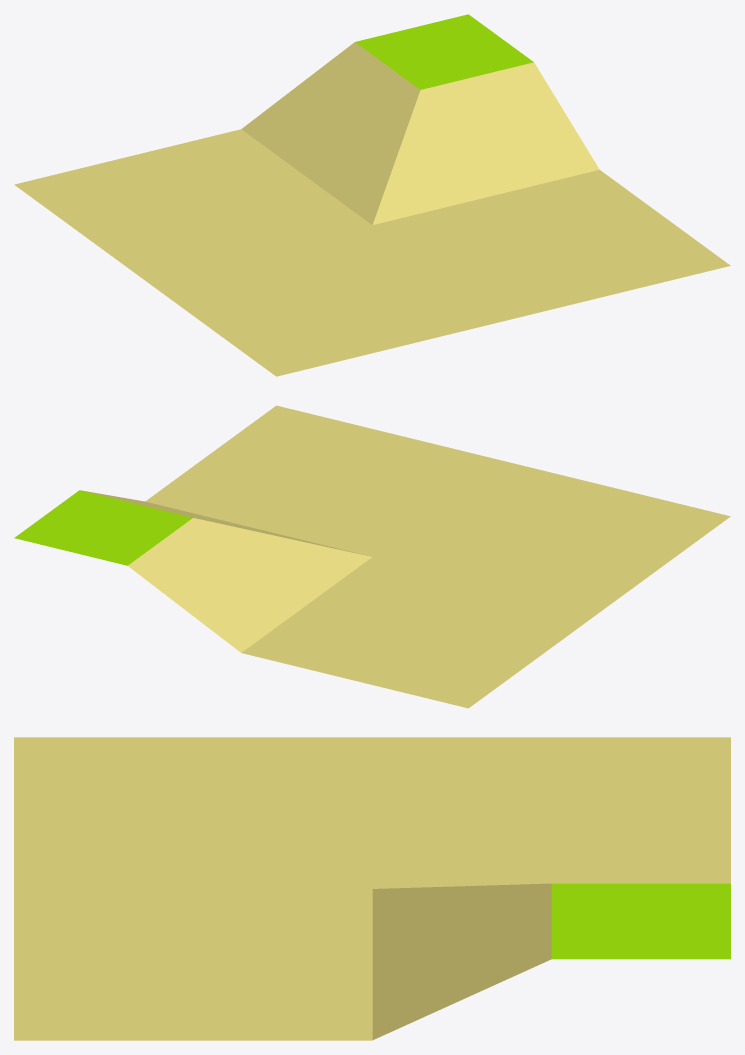
File: BotL.fbx
The picture shows the model from 3 angles, top to bottom: view 1: azimuth 30°, elevation 25°; view 2: azimuth 150°, elevation 25°; view 3: azimuth 270°, elevation 25°; orthographic projection. The views are drawn at different scales.
Visible parts, largest first — view 1: BOTL; view 2: BOTL; view 3: BOTL.
Part boxes in pixels (x1=…): BOTL: x1=14, y1=14, x2=730, y2=376; BOTL: x1=14, y1=405, x2=730, y2=708; BOTL: x1=14, y1=737, x2=730, y2=1040.
Bounding box in the file's own units: 200 × 25 × 200.
